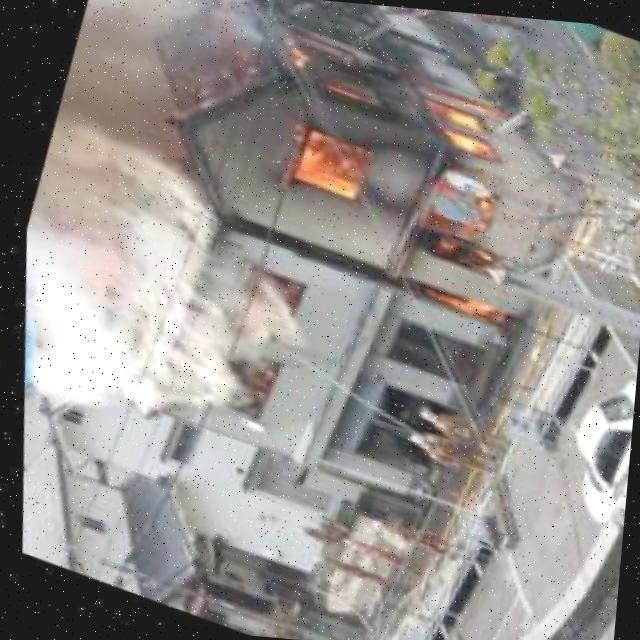fire: (214, 24, 582, 347)
